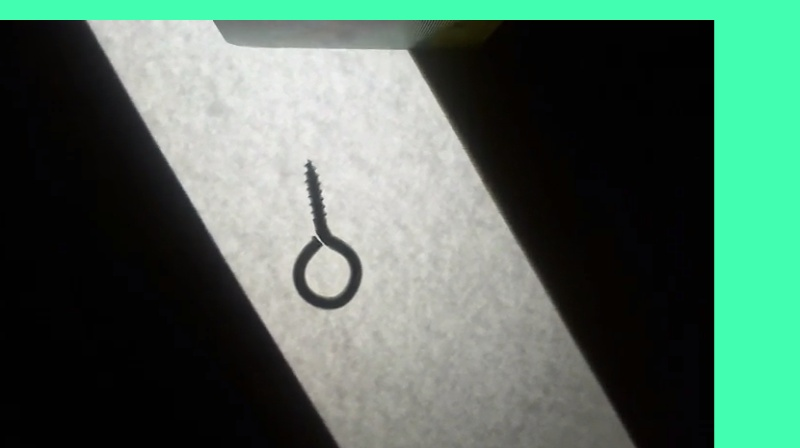O001: (286, 155, 365, 310)
